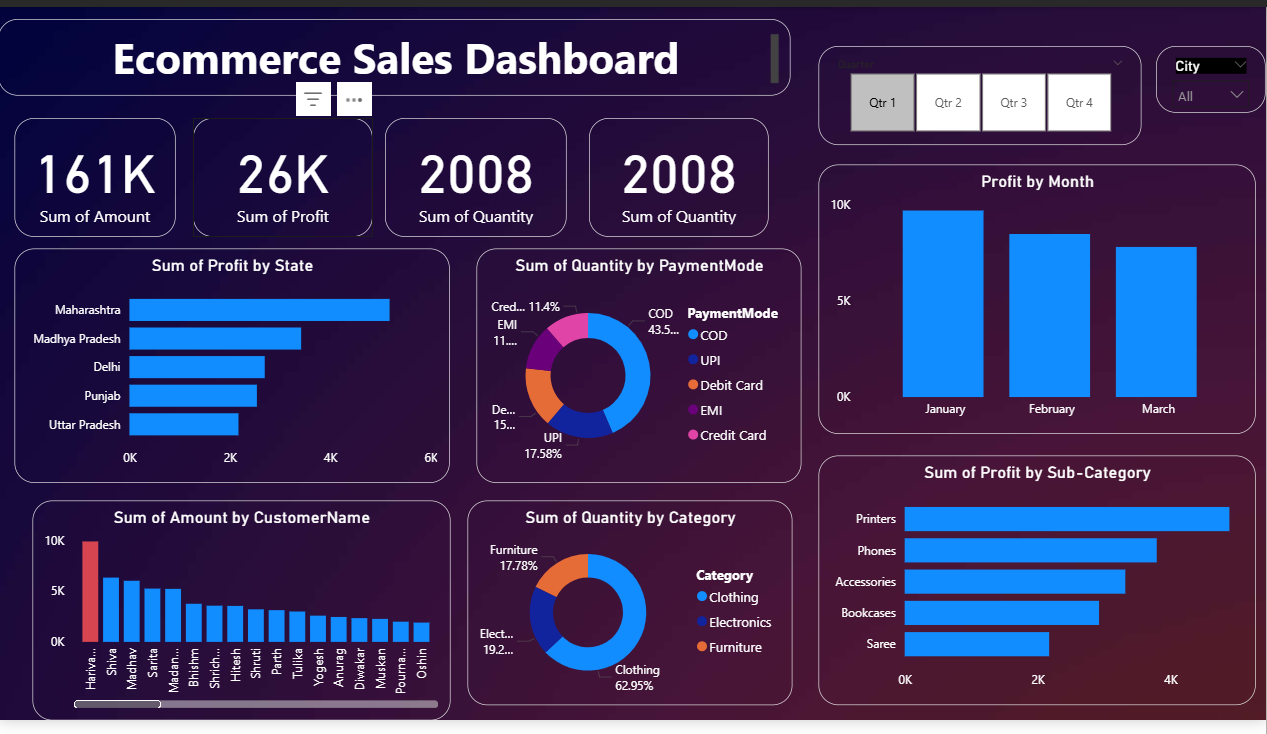

The page's visual inventory and layout, read from the dashboard file:
{"tool":"powerbi","page":{"name":"Page 1","canvas":[1280,720],"ordinal":0},"visuals":[{"type":"textbox","box":[0,11.6,800.1,77.3],"z":0},{"type":"card","fields":{"Values":["Sum(Details.Amount)"]},"box":[17.4,112.1,162.3,119.8],"z":1000},{"type":"card","fields":{"Values":["Sum(Details.Profit)"]},"box":[197.1,112.1,181.7,119.8],"z":2000},{"type":"card","fields":{"Values":["Sum(Details.Quantity)"]},"box":[390.4,112.1,183.6,119.8],"z":3000},{"type":"barChart","fields":{"Category":["Orders.State"],"Y":["Sum(Details.Profit)"]},"box":[17.4,243.5,439.1,237],"z":4000},{"type":"columnChart","title":"Profit by Month","fields":{"Category":["Orders.Order Date.Variation.Date Hierarchy.Month"],"Y":["Sum(Details.Profit)"]},"box":[828.3,158.7,441.3,271.7],"z":5000},{"type":"barChart","fields":{"Category":["Details.Sub-Category"],"Y":["Sum(Details.Profit)"]},"box":[828.3,452.2,441.3,252.2],"z":6000},{"type":"donutChart","fields":{"Category":["Details.Category"],"Y":["Sum(Details.Quantity)"]},"box":[473.9,497.8,328.3,206.5],"z":7000},{"type":"donutChart","fields":{"Category":["Details.PaymentMode"],"Y":["Sum(Details.Quantity)"]},"box":[482.6,243.5,328.3,237],"z":8000},{"type":"card","fields":{"Values":["Sum(Details.Quantity)"]},"box":[597.2,112.1,181.7,119.8],"z":9000},{"type":"columnChart","fields":{"Category":["Orders.CustomerName"],"Y":["Sum(Details.Amount)"]},"box":[34.8,497.8,421.7,221.7],"z":10000},{"type":"slicer","fields":{"Values":["Orders.Order Date.Variation.Date Hierarchy.Quarter"]},"box":[828.3,39.1,326.1,100],"z":11000},{"type":"slicer","fields":{"Values":["Orders.City"]},"box":[1169.6,39.1,110.9,67.4],"z":12000}]}

Visuals, with their boxes in screenshot pixels (x1, y1, x2, y2), scaled from the page's 1280x720 canvas onto the 1267x734 screenshot:
textbox: region(0, 12, 792, 91)
card - Sum(Details.Amount): region(17, 114, 178, 236)
card - Sum(Details.Profit): region(195, 114, 375, 236)
card - Sum(Details.Quantity): region(386, 114, 568, 236)
barChart - Orders.State x Sum(Details.Profit): region(17, 248, 452, 490)
"Profit by Month" columnChart: region(820, 162, 1257, 439)
barChart - Details.Sub-Category x Sum(Details.Profit): region(820, 461, 1257, 718)
donutChart - Details.Category x Sum(Details.Quantity): region(469, 507, 794, 718)
donutChart - Details.PaymentMode x Sum(Details.Quantity): region(478, 248, 803, 490)
card - Sum(Details.Quantity): region(591, 114, 771, 236)
columnChart - Orders.CustomerName x Sum(Details.Amount): region(34, 507, 452, 733)
slicer - Orders.Order Date.Variation.Date Hierarchy.Quarter: region(820, 40, 1143, 142)
slicer - Orders.City: region(1158, 40, 1266, 109)
